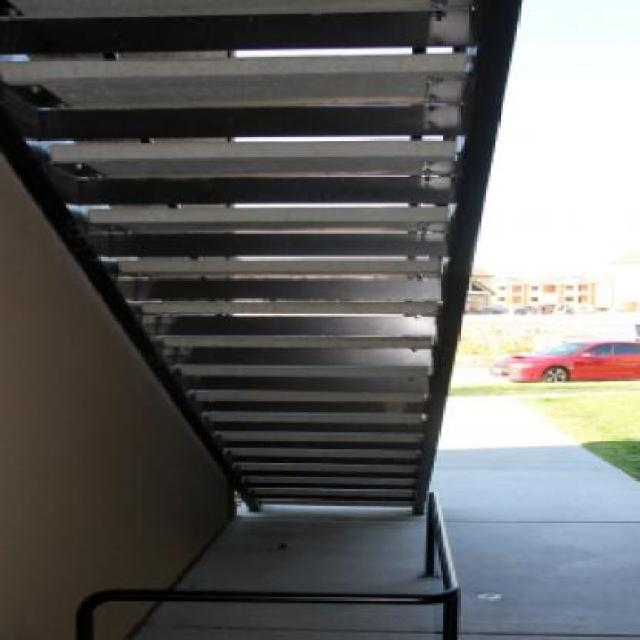stair: (35, 0, 577, 605)
